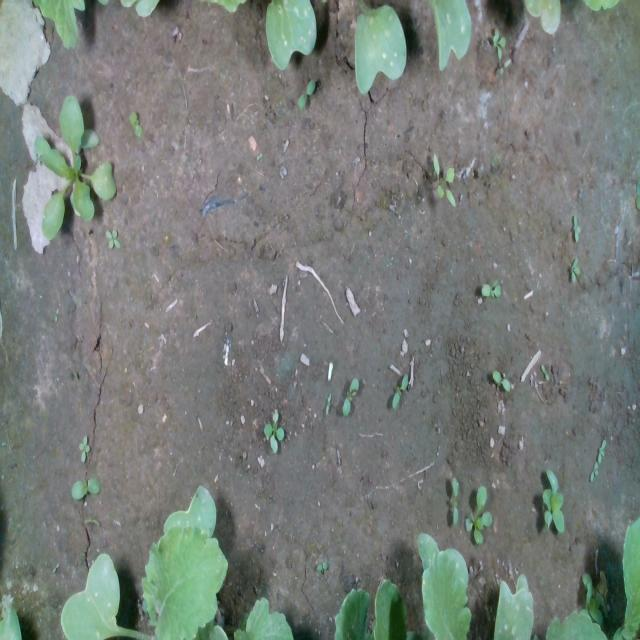weed: (432, 152, 456, 208), (262, 406, 284, 455), (341, 375, 359, 417), (391, 370, 409, 410), (70, 476, 100, 499), (296, 76, 316, 110), (490, 367, 511, 393), (491, 25, 505, 61), (480, 276, 502, 298), (451, 477, 460, 527), (128, 110, 142, 137), (78, 431, 90, 462), (104, 228, 120, 250), (570, 255, 580, 284), (572, 212, 581, 242), (82, 516, 100, 528), (324, 390, 332, 415), (539, 361, 549, 380), (590, 459, 598, 481), (52, 561, 59, 574)
